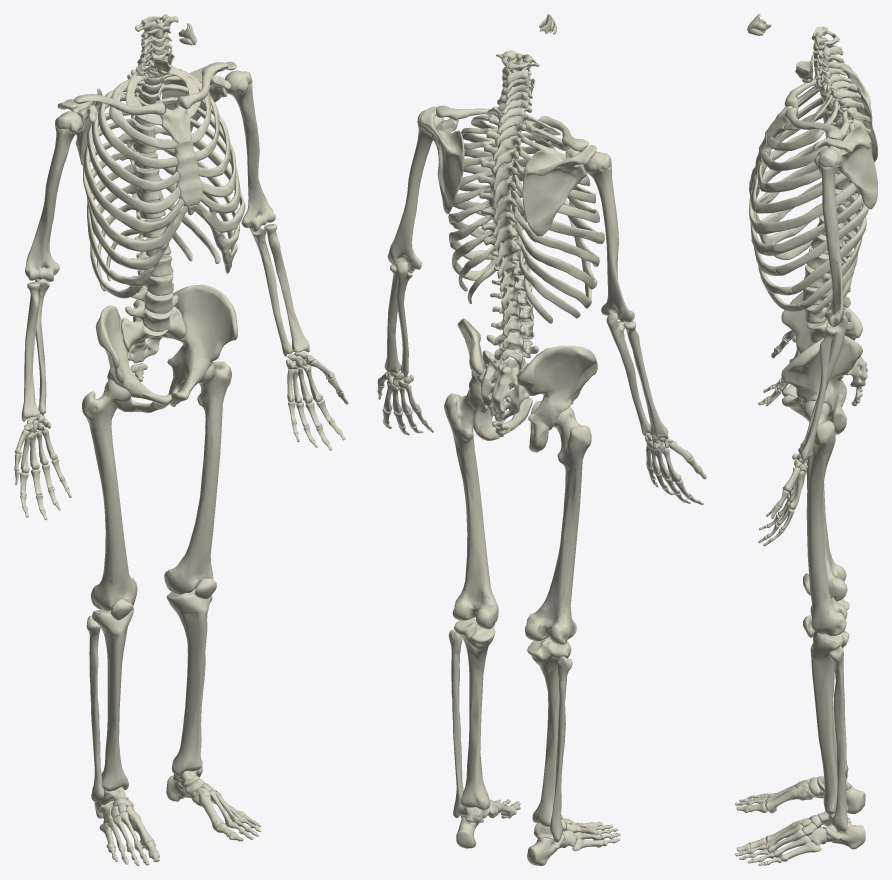
The model's file is skeleton.glb.
The picture shows the model from 3 angles, left to right: view 1: azimuth 30°, elevation 25°; view 2: azimuth 150°, elevation 25°; view 3: azimuth 270°, elevation 25°; orthographic projection.
Visible parts, largest first — view 1: Femurr, Femurl, Hip_bonel, Tibial, Tibiar, Humerusr, Humerusl, Hip_boner, Sacrum, Fibular, Radiusr, Body_of_sternum (+17 smaller); view 2: Femurr, Femurl, Hip_boner, Scapular, Tibial, Tibiar, Humerusr, Humerusl, Hip_bonel, Scapulal, Sacrum, Fibulal (+13 smaller); view 3: Femurl, Tibial, Hip_bonel, Humerusl, Scapulal, Fibulal, Hip_boner, Radiusl, Femurr, Seventh_ribl, Sixth_ribl, Eighth_ribl (+28 smaller).
Boxes of the visible parts, x1,y1,x2,y2 form: Femurr: (82, 379, 137, 611); Femurl: (164, 361, 231, 594); Hip_bonel: (167, 284, 237, 406); Tibial: (166, 587, 211, 776); Tibiar: (92, 608, 133, 791); Humerusr: (25, 111, 82, 281); Humerusl: (224, 70, 275, 231); Hip_boner: (95, 305, 171, 412); Sacrum: (121, 306, 185, 363); Fibular: (86, 615, 104, 802); Radiusr: (21, 281, 40, 421); Body_of_sternum: (174, 138, 202, 207); Femurr: (525, 407, 591, 644); Femurl: (444, 390, 498, 629); Hip_boner: (517, 345, 597, 452); Scapular: (522, 145, 596, 236); Tibial: (454, 618, 495, 809); Tibiar: (527, 637, 571, 826); Humerusr: (583, 151, 634, 322); Humerusl: (387, 110, 443, 272); Hip_bonel: (457, 318, 532, 440); Scapulal: (420, 106, 464, 214); Sacrum: (480, 350, 529, 421); Fibulal: (448, 629, 464, 817); Femurl: (802, 400, 847, 635); Tibial: (810, 630, 849, 814); Hip_bonel: (781, 335, 862, 434); Humerusl: (814, 147, 843, 326); Scapulal: (812, 125, 877, 209); Fibulal: (828, 646, 847, 831); Hip_boner: (781, 292, 862, 406); Radiusl: (798, 326, 837, 461); Femurr: (806, 422, 847, 601); Seventh_ribl: (765, 194, 863, 255); Sixth_ribl: (757, 182, 856, 234); Eighth_ribl: (775, 178, 868, 275).
Bounding box in the file's own units: 0.6692 × 1.58 × 0.2501.
